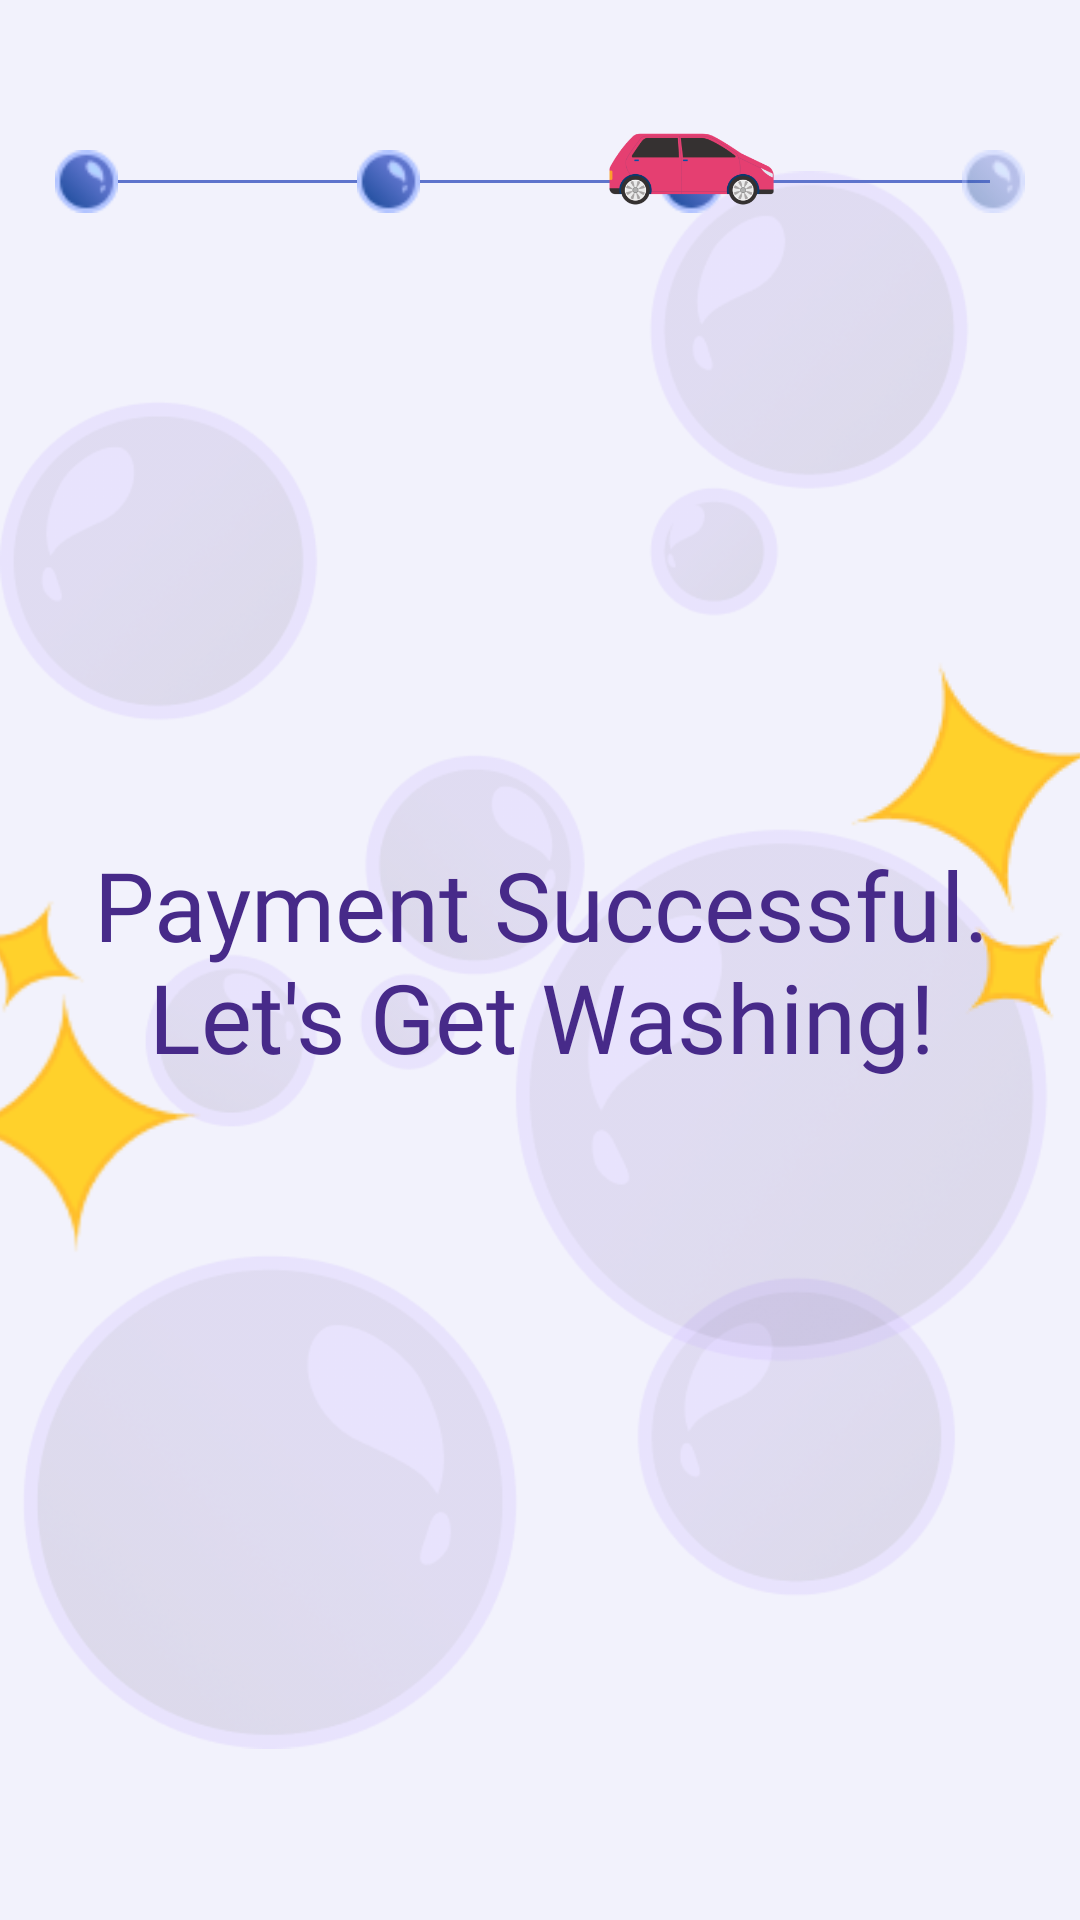

Icons on this 1080px×1920px Android screen, each with the point to tap as point (x, y):
incomplete bubble: point (993, 181)
